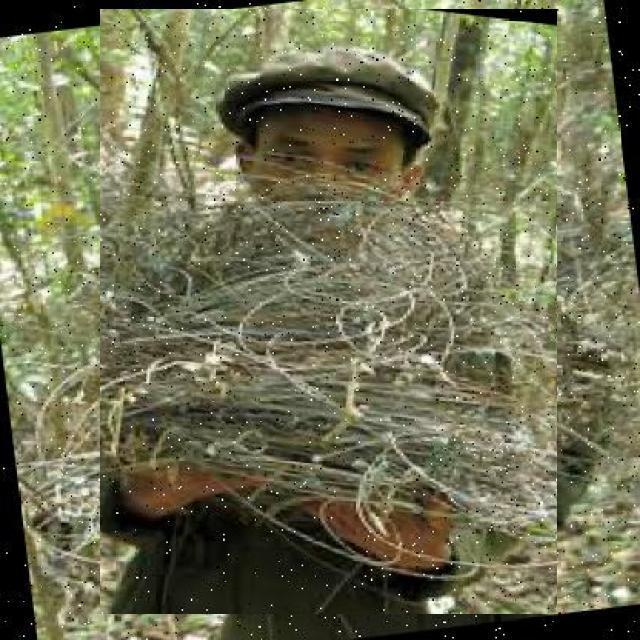ranger: (128, 36, 552, 545)
